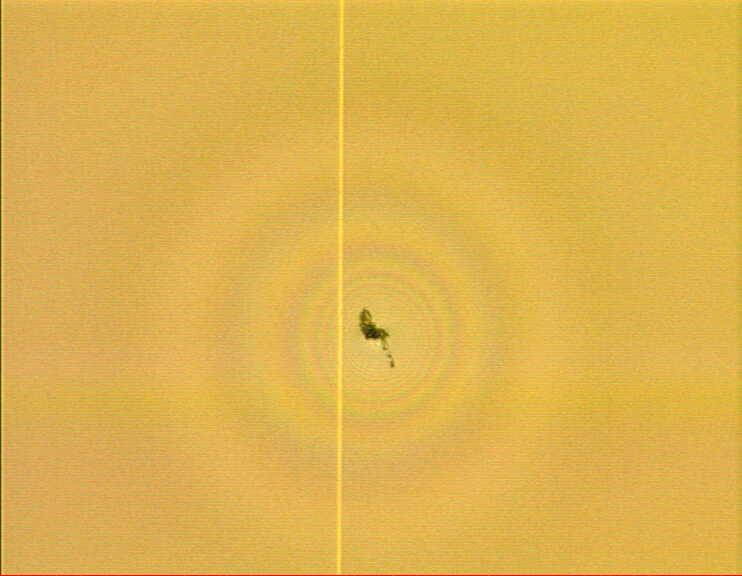PIQ PARTICLE: (356, 306, 400, 371)
